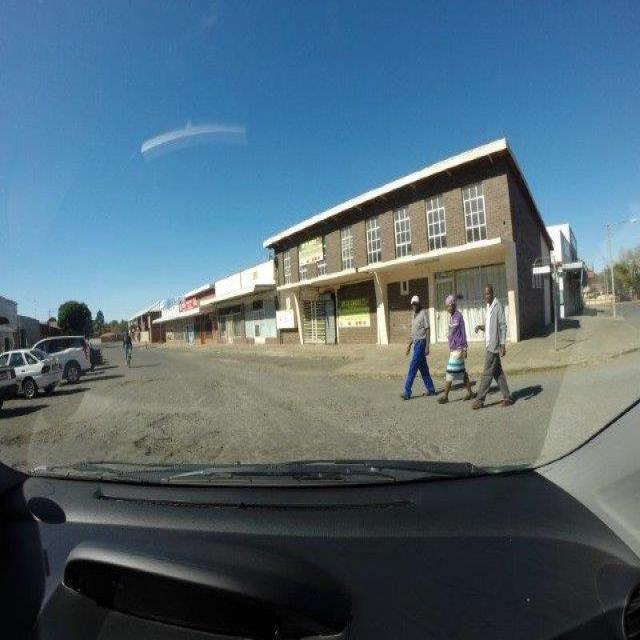jalan retak: (328, 396, 451, 459), (136, 398, 230, 462), (104, 372, 176, 392)
lubang: (5, 416, 85, 451)
